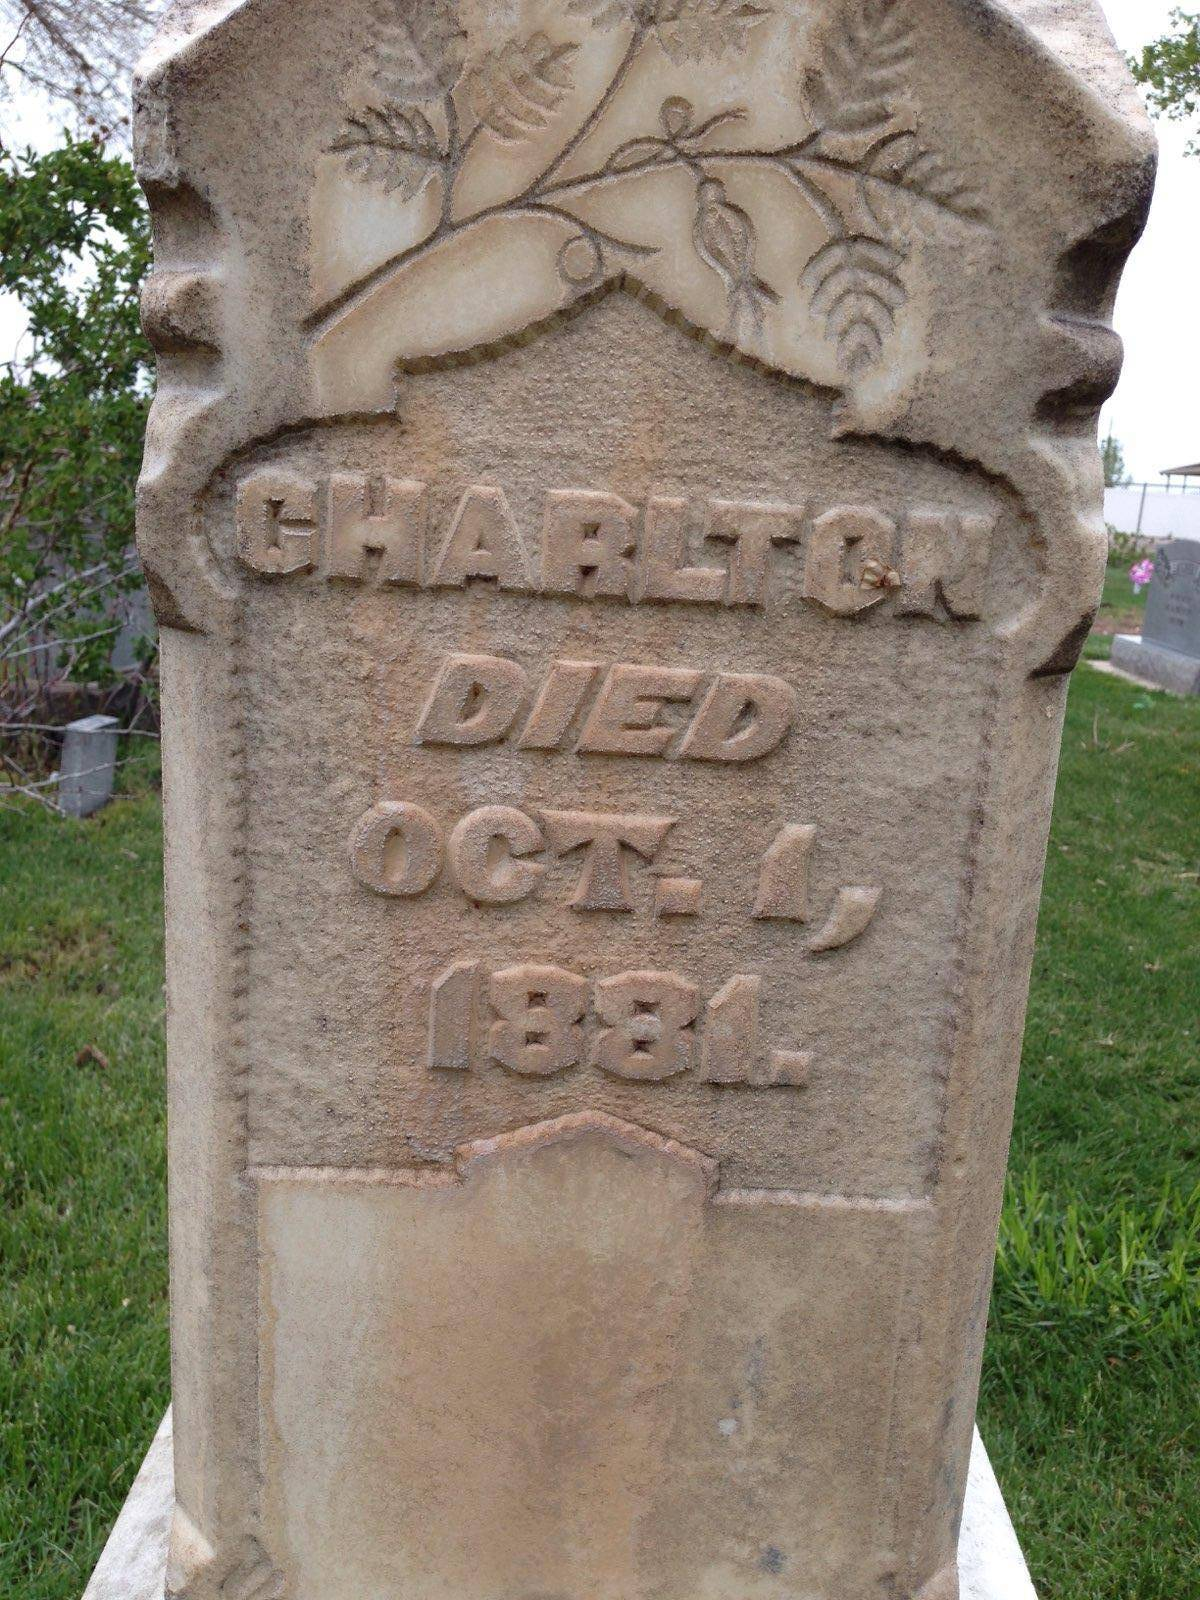upright: (132, 0, 1162, 1600)
